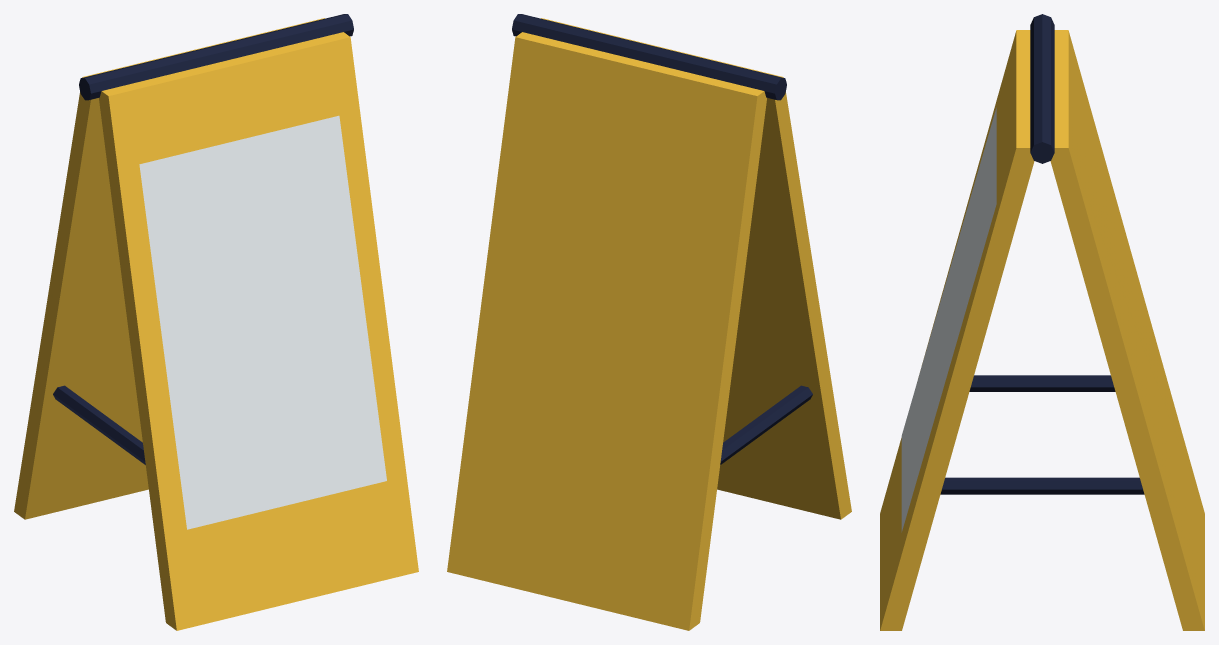
The model's file is P_caution_sign.glb.
3 views of the same model, side by side, from view 1: azimuth 30°, elevation 25°; view 2: azimuth 150°, elevation 25°; view 3: azimuth 270°, elevation 25° (orthographic).
Parts seen in each view (by area): view 1: SignFace, Frame_Front, Frame_Back, TopHinge, FoldingBraces; view 2: Frame_Back, Frame_Front, TopHinge, FoldingBraces; view 3: Frame_Back, Frame_Front, SignFace, FoldingBraces, TopHinge.
Part boxes in pixels (bbox=[...]): SignFace: bbox=[139, 115, 386, 529]; Frame_Front: bbox=[99, 32, 418, 630]; Frame_Back: bbox=[14, 18, 324, 519]; TopHinge: bbox=[79, 14, 353, 100]; FoldingBraces: bbox=[53, 385, 145, 464]; Frame_Back: bbox=[447, 32, 766, 630]; Frame_Front: bbox=[541, 18, 851, 519]; TopHinge: bbox=[512, 14, 786, 100]; FoldingBraces: bbox=[720, 385, 812, 464]; Frame_Back: bbox=[1050, 30, 1204, 630]; Frame_Front: bbox=[880, 30, 1034, 630]; SignFace: bbox=[901, 107, 996, 532]; FoldingBraces: bbox=[940, 375, 1144, 494]; TopHinge: bbox=[1030, 14, 1054, 163].
Size of the model in its own units: 0.5 by 0.9 by 0.536.
